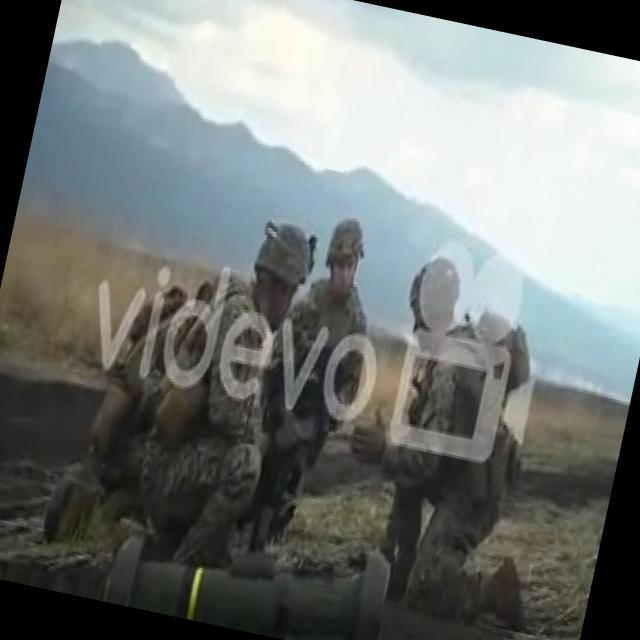rocket: (100, 495, 392, 640)
